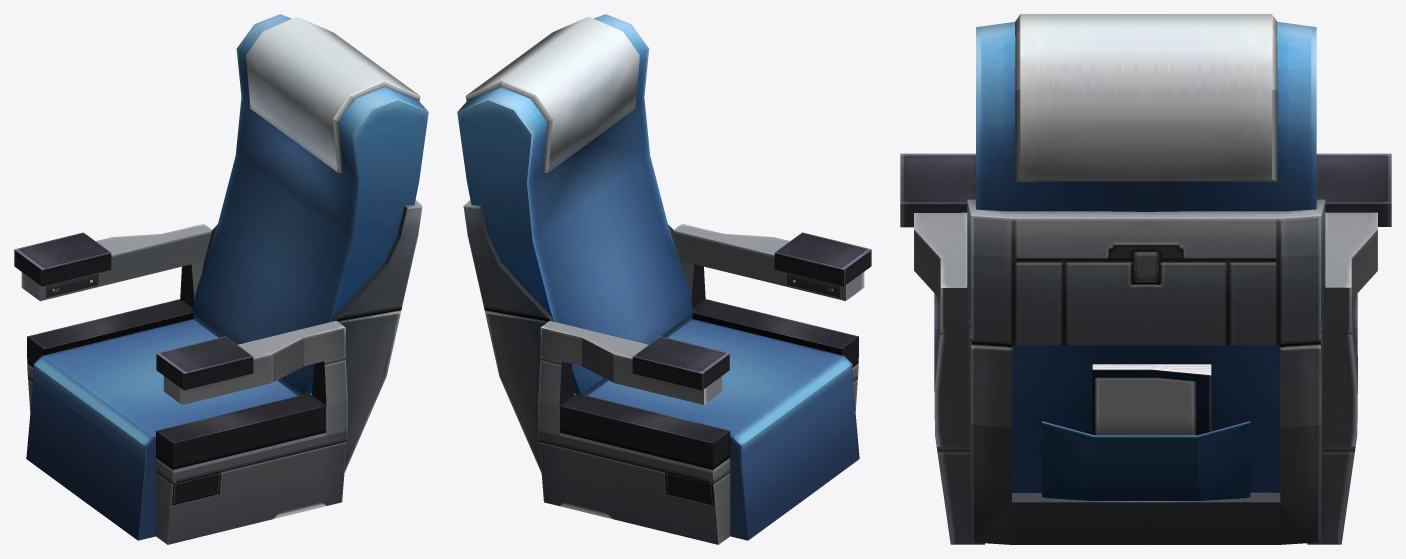
The model's file is my_highlander_01_seat_01.glb.
The picture shows the model from 3 angles, left to right: view 1: azimuth 30°, elevation 25°; view 2: azimuth 150°, elevation 25°; view 3: azimuth 270°, elevation 25°; orthographic projection. The views are drawn at different scales.
Visible parts, largest first — view 1: my_highlander_01_seat_01; view 2: my_highlander_01_seat_01; view 3: my_highlander_01_seat_01.
Boxes of the visible parts, <box> form: my_highlander_01_seat_01: <box>14,14,428,544</box>; my_highlander_01_seat_01: <box>457,14,871,544</box>; my_highlander_01_seat_01: <box>900,14,1391,544</box>.
Size of the model in its own units: 0.00531 by 0.00668 by 0.00528.
1 material, 1 textured.
